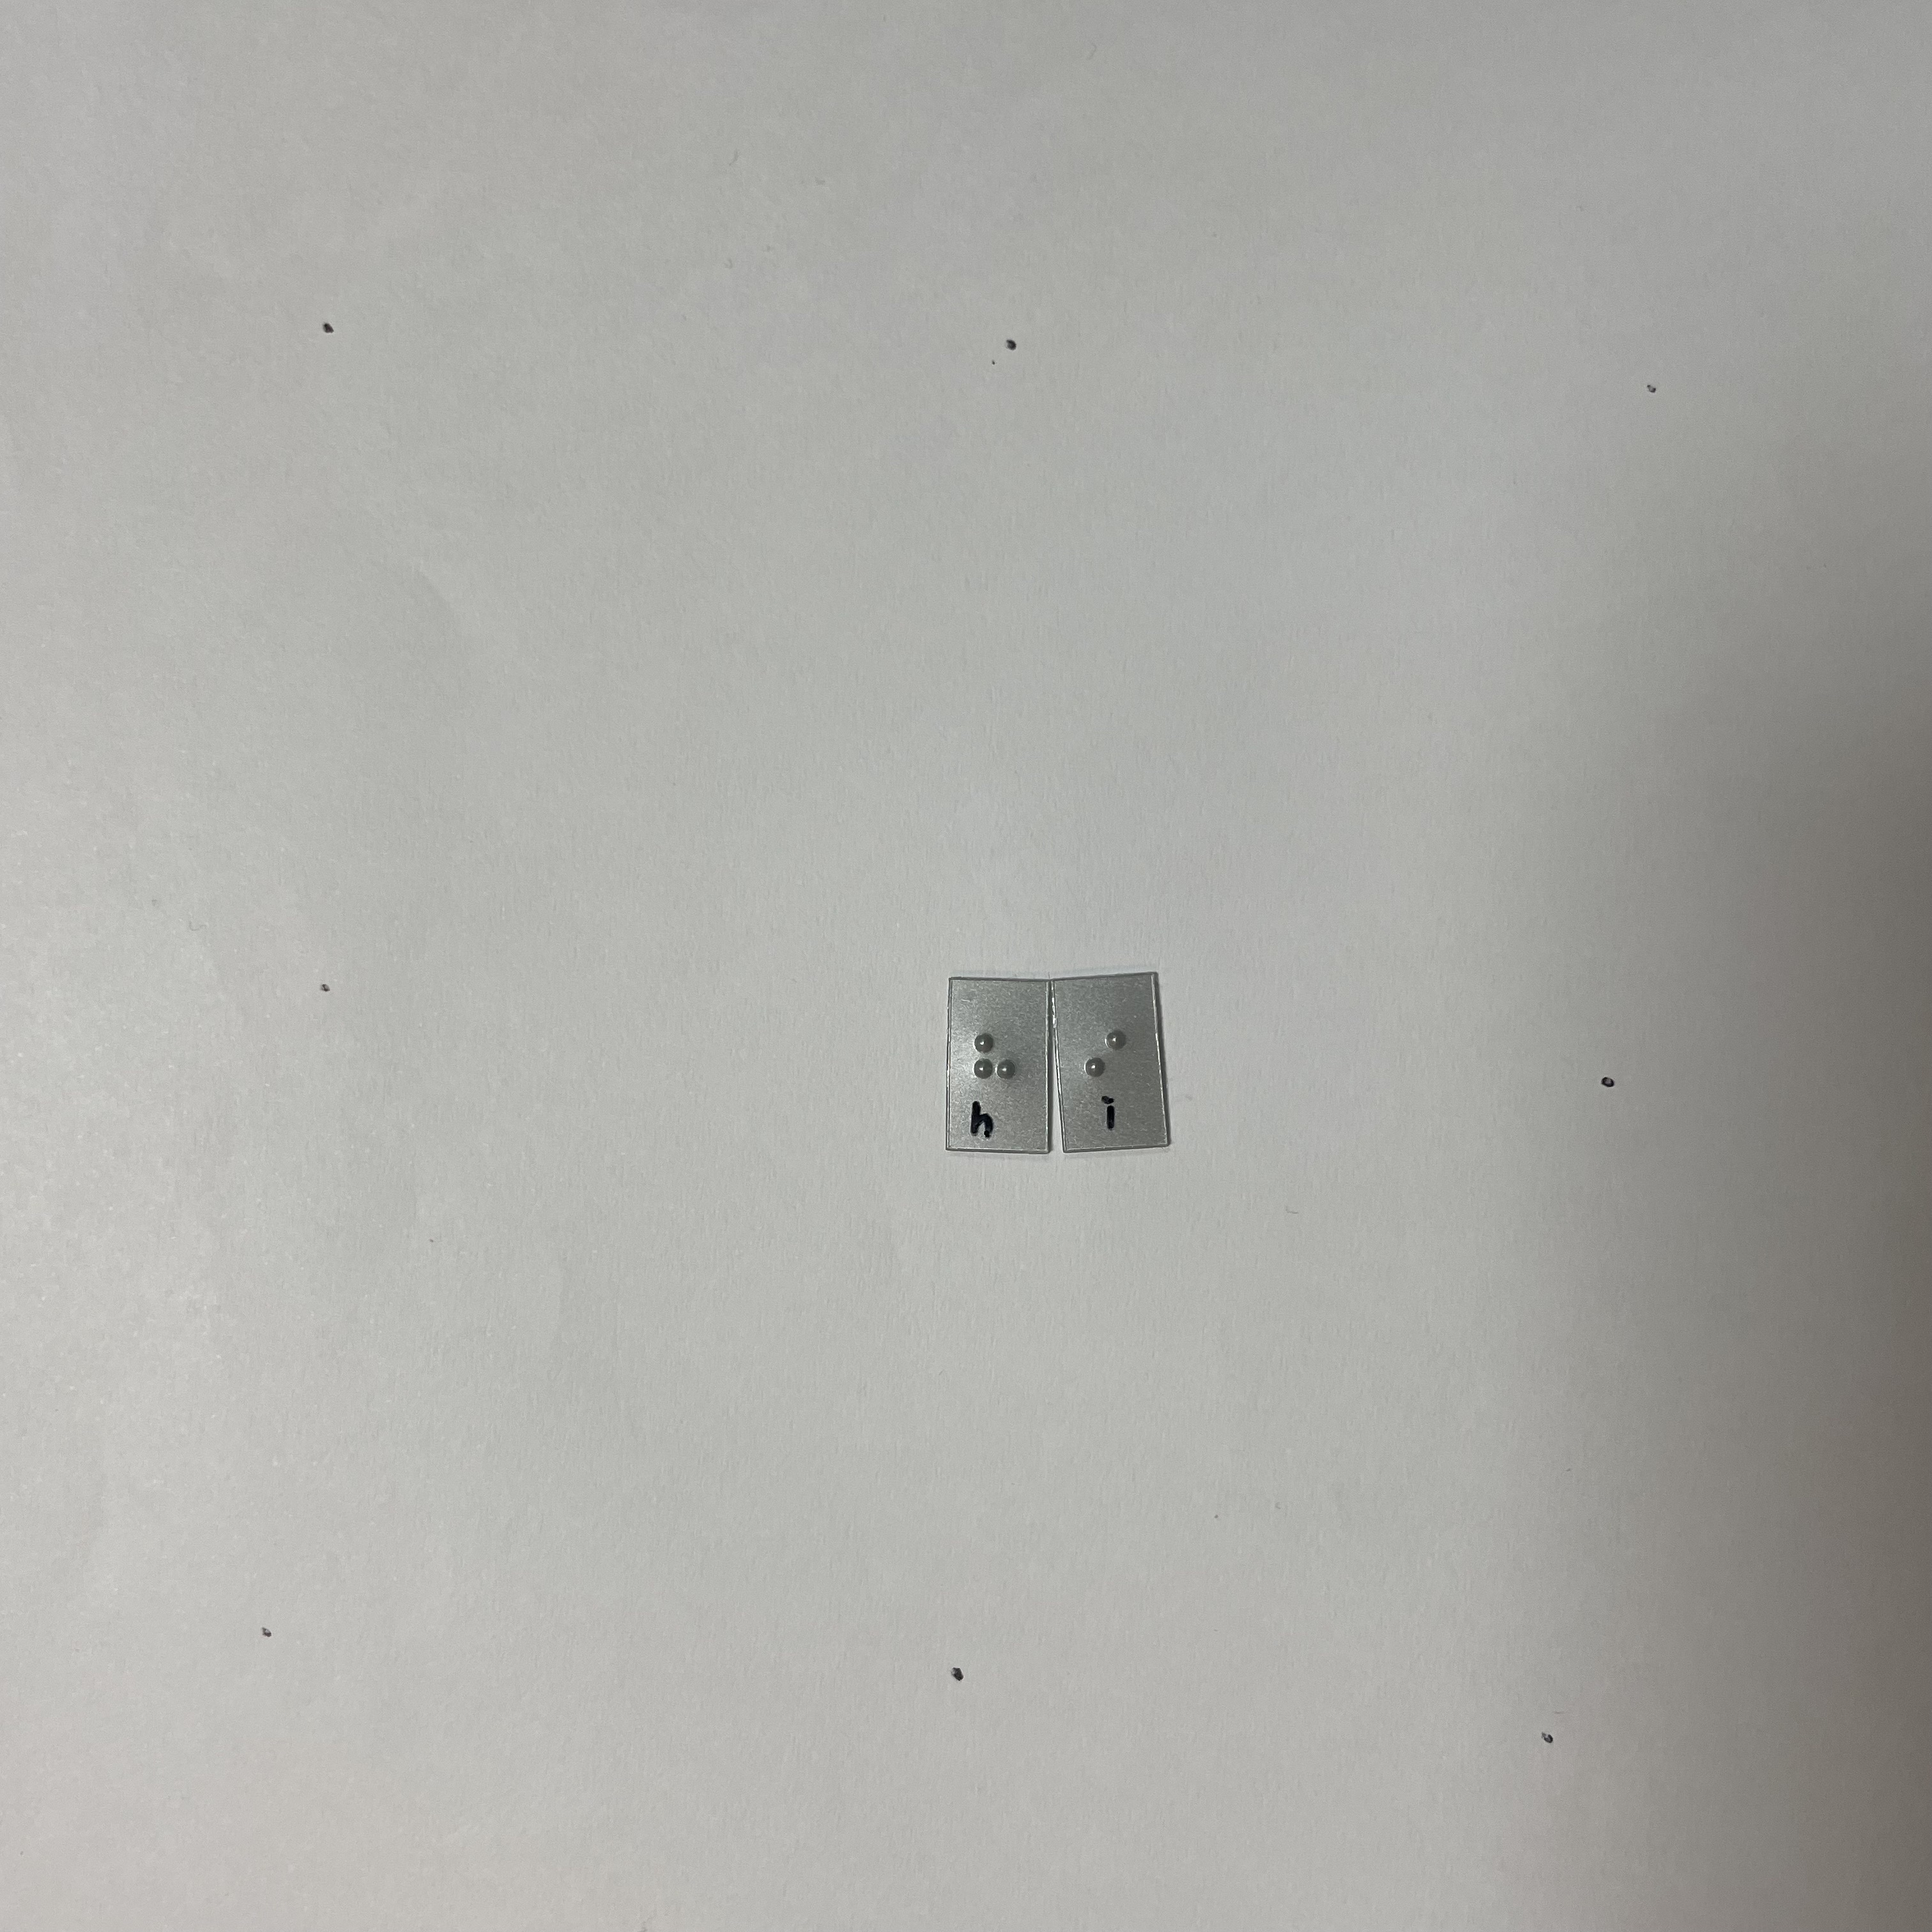h: (965, 1025, 1027, 1122)
i: (1079, 1022, 1136, 1110)
